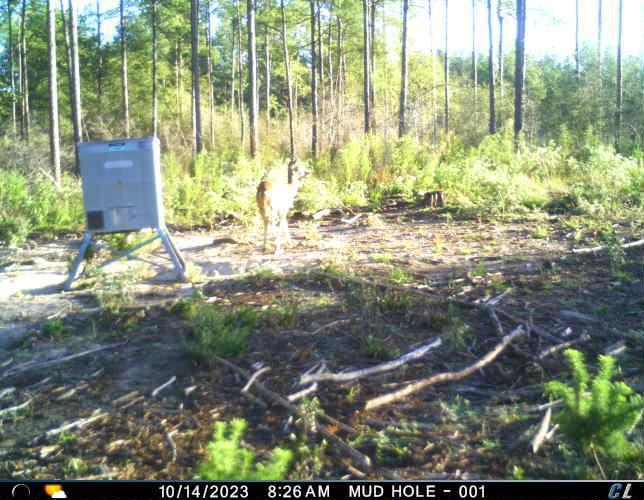Deer: (252, 153, 313, 261)
